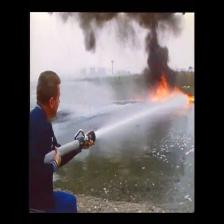fire: (157, 79, 170, 95)
smoke: (147, 12, 165, 66)
